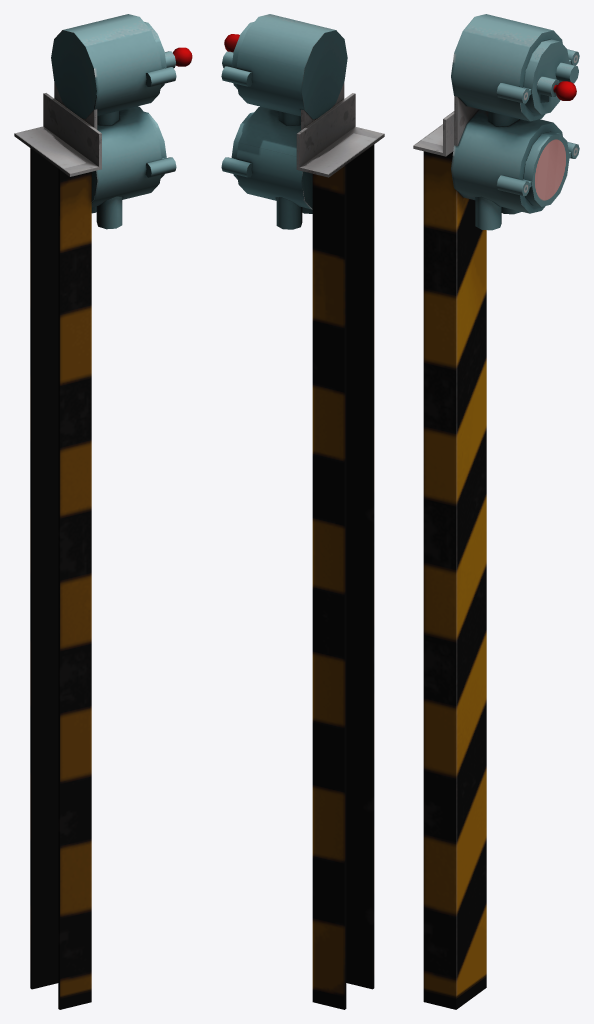
The model's file is Gauge1S.fbx.
The picture shows the model from 3 angles, left to right: view 1: azimuth 30°, elevation 25°; view 2: azimuth 150°, elevation 25°; view 3: azimuth 330°, elevation 25°; orthographic projection. The views are drawn at different scales.
Parts seen in each view (by area): view 1: Gauge1S2; view 2: Gauge1S2; view 3: Gauge1S2.
Part boxes in pixels (x1,y1,x2,y2): Gauge1S2: (14,14,192,1009); Gauge1S2: (221,14,384,1009); Gauge1S2: (413,14,579,1009).
Bounding box in the file's own units: 21.34 × 140 × 14.87.
1 material, 1 textured.
